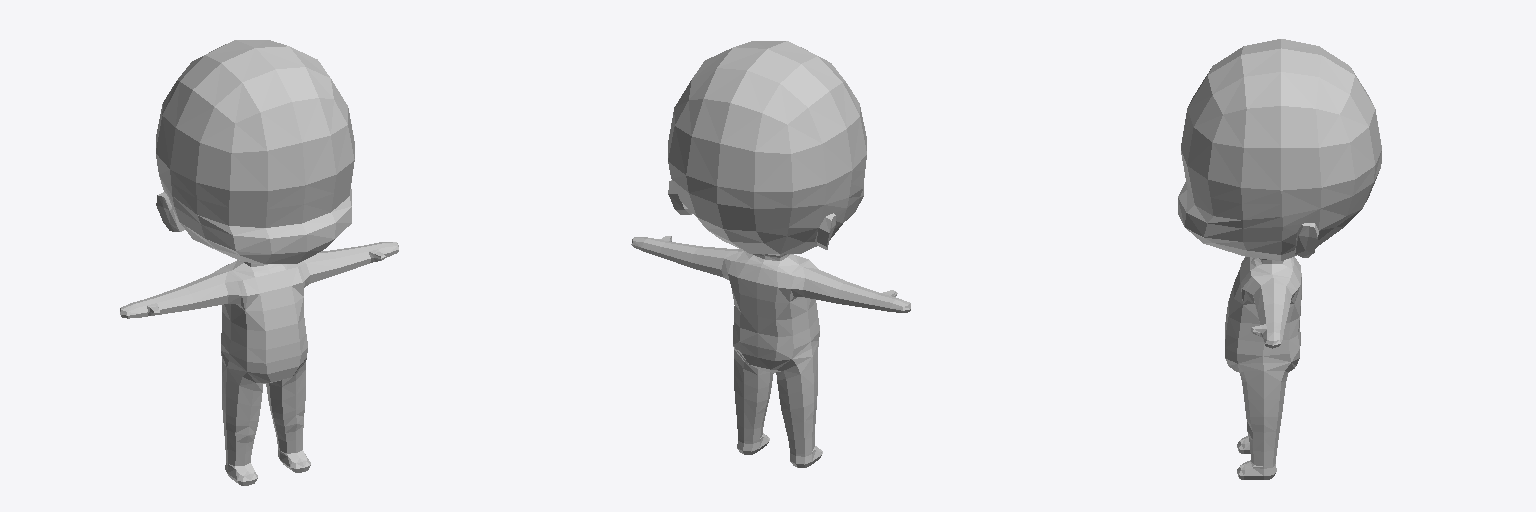
Rendered from low poly character.obj.
3 views of the same model, side by side, from view 1: azimuth 30°, elevation 25°; view 2: azimuth 150°, elevation 25°; view 3: azimuth 270°, elevation 25° (orthographic).
Visible parts, largest first — view 1: Cube; view 2: Cube; view 3: Cube.
Part boxes in pixels (left/top/right/bottom): Cube: left=120, top=40, right=398, bottom=485; Cube: left=631, top=41, right=910, bottom=467; Cube: left=1178, top=39, right=1381, bottom=479.
Bounding box in the file's own units: 8.87 × 12.6 × 5.62.